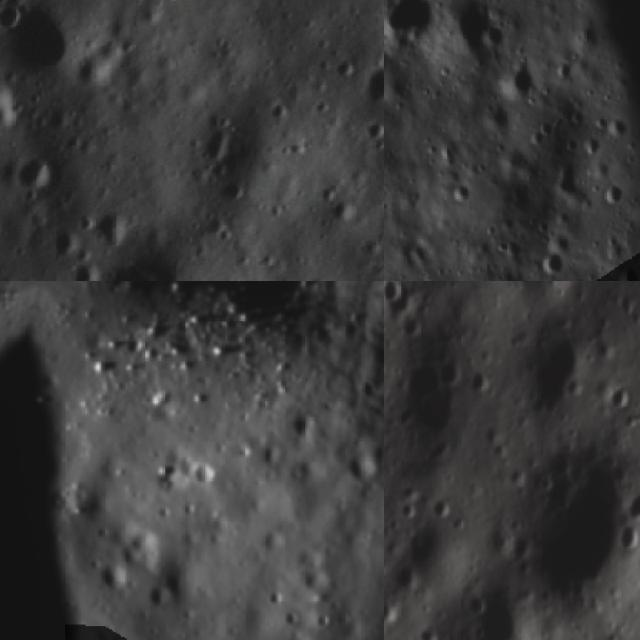crater: (526, 446, 634, 600), (0, 0, 96, 108), (71, 232, 196, 281), (517, 333, 592, 414), (441, 0, 512, 68), (471, 579, 530, 640), (349, 160, 384, 255), (384, 0, 441, 54), (349, 55, 384, 129), (339, 441, 384, 498), (92, 558, 136, 605), (496, 64, 541, 103), (552, 157, 586, 204), (594, 109, 638, 145), (286, 408, 322, 450), (186, 457, 224, 494), (142, 580, 175, 618), (481, 100, 513, 134), (478, 23, 508, 54), (594, 180, 626, 208), (263, 581, 291, 613), (443, 182, 477, 208), (252, 442, 279, 472), (279, 609, 303, 637), (554, 58, 578, 84), (384, 281, 410, 302), (316, 608, 334, 635), (580, 130, 598, 156)
